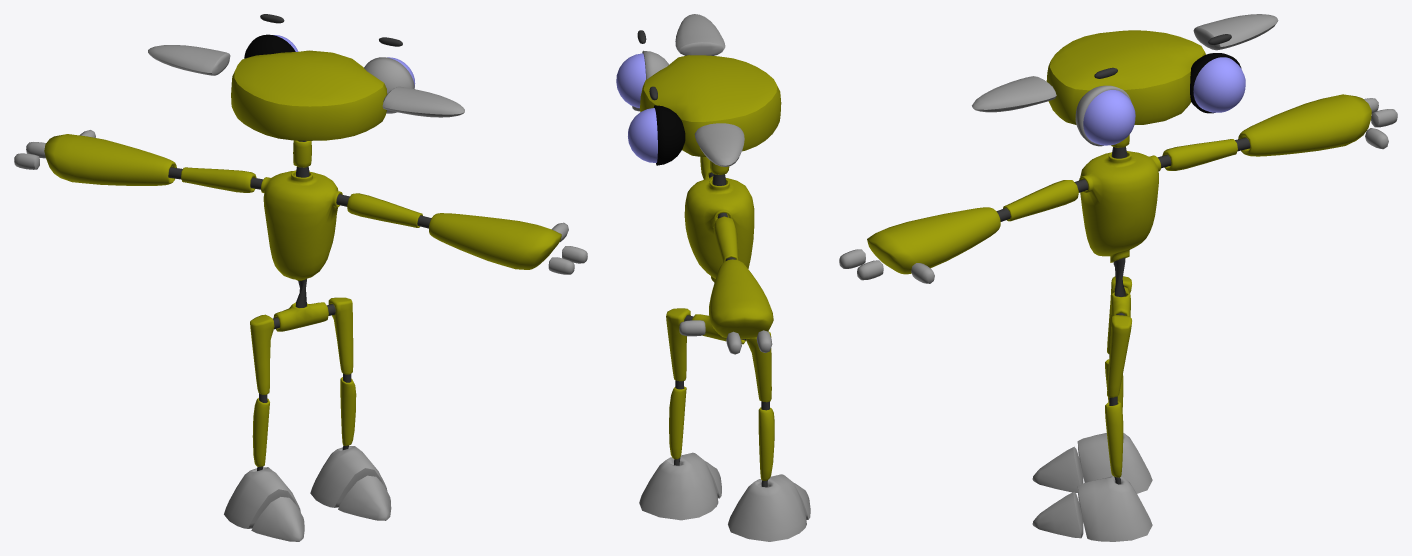
The model's file is die8.obj.
3 views of the same model, side by side, from view 1: azimuth 30°, elevation 25°; view 2: azimuth 150°, elevation 25°; view 3: azimuth 270°, elevation 25° (orthographic). The views are drawn at different scales.
Parts seen in each view (by area): view 1: Mesh polySurface41, Mesh polySurface50, Mesh polySurface48, Mesh polySurface18, Mesh polySurface37, Mesh polySurface10, Mesh polySurface26, Mesh polySurface8, Mesh polySurface24, Mesh polySurface47, Mesh polySurface38, Mesh polySurface51 (+8 smaller); view 2: Mesh polySurface50, Mesh polySurface41, Mesh polySurface10, Mesh polySurface26, Mesh polySurface18, Mesh polySurface48, Mesh polySurface44, Mesh polySurface4, Mesh polySurface6, Mesh polySurface12, Mesh polySurface22, Mesh polySurface47 (+10 smaller); view 3: Mesh polySurface50, Mesh polySurface41, Mesh polySurface18, Mesh polySurface37, Mesh polySurface10, Mesh polySurface48, Mesh polySurface26, Mesh polySurface22, Mesh polySurface6, Mesh polySurface47, Mesh polySurface38, Mesh polySurface51 (+6 smaller).
Part boxes in pixels (x1,y1,x2,y2): Mesh polySurface41: (261, 170, 342, 280); Mesh polySurface50: (234, 50, 383, 106); Mesh polySurface48: (231, 72, 387, 140); Mesh polySurface18: (44, 134, 176, 185); Mesh polySurface37: (429, 213, 561, 269); Mesh polySurface10: (310, 446, 387, 507); Mesh polySurface26: (224, 467, 300, 528); Mesh polySurface8: (338, 475, 391, 520); Mesh polySurface24: (251, 497, 304, 541); Mesh polySurface47: (382, 86, 464, 114); Mesh polySurface38: (347, 193, 422, 227); Mesh polySurface51: (181, 167, 256, 192); Mesh polySurface50: (643, 55, 777, 121); Mesh polySurface41: (684, 176, 754, 282); Mesh polySurface10: (639, 452, 718, 520); Mesh polySurface26: (728, 474, 806, 541); Mesh polySurface18: (709, 259, 773, 339); Mesh polySurface48: (640, 81, 781, 156); Mesh polySurface44: (694, 123, 744, 165); Mesh polySurface4: (654, 105, 685, 165); Mesh polySurface6: (628, 108, 657, 162); Mesh polySurface12: (666, 308, 690, 381); Mesh polySurface22: (616, 53, 645, 107); Mesh polySurface47: (675, 14, 725, 50); Mesh polySurface50: (1050, 30, 1204, 90); Mesh polySurface41: (1079, 151, 1161, 262); Mesh polySurface18: (1238, 94, 1371, 156); Mesh polySurface37: (867, 207, 1000, 274); Mesh polySurface10: (1078, 476, 1152, 541); Mesh polySurface48: (1046, 52, 1205, 124); Mesh polySurface26: (1078, 433, 1152, 493); Mesh polySurface22: (1083, 90, 1135, 145); Mesh polySurface6: (1193, 57, 1245, 112); Mesh polySurface47: (972, 76, 1056, 109); Mesh polySurface38: (1003, 180, 1078, 221); Mesh polySurface51: (1162, 139, 1237, 170).
Bounding box in the file's own units: 11.44 × 14.23 × 15.09.
